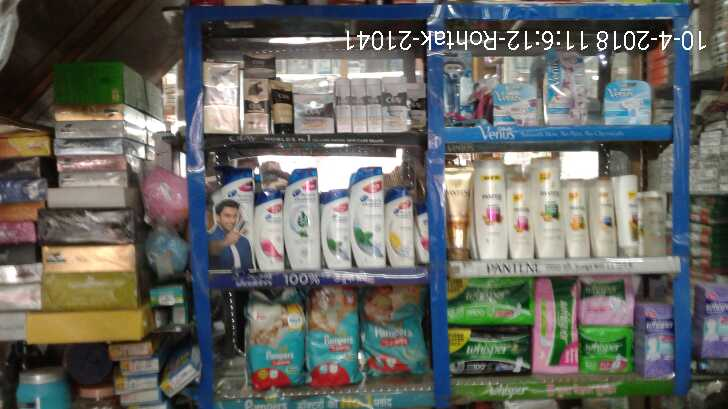venus: (542, 50, 586, 128), (604, 79, 653, 124), (492, 82, 538, 129), (444, 50, 472, 126)
